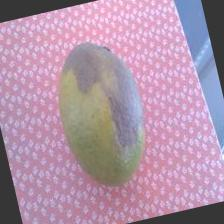Orange Rotten: (40, 24, 170, 209)
